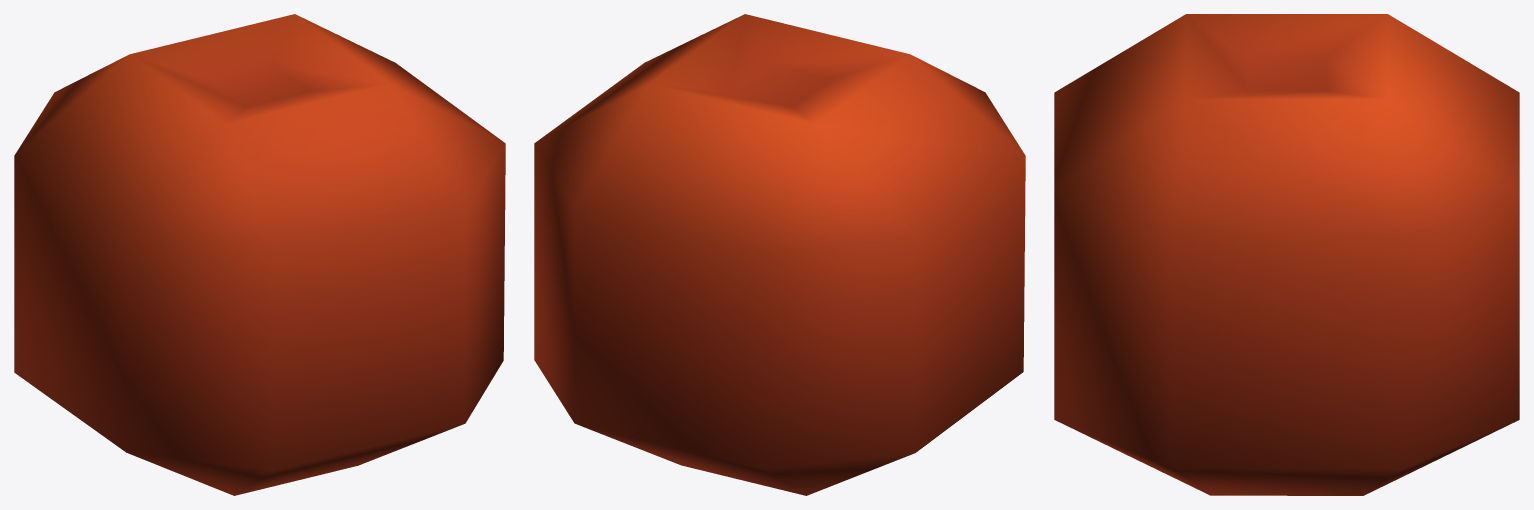
Rendered from tomato_cherry_no_leaf.fbx.
3 renders of one model, left to right at view 1: azimuth 30°, elevation 25°; view 2: azimuth 150°, elevation 25°; view 3: azimuth 270°, elevation 25°, orthographic. The views are drawn at different scales.
Visible parts, largest first — view 1: tomato_cherry_no_leaf; view 2: tomato_cherry_no_leaf; view 3: tomato_cherry_no_leaf.
Part boxes in pixels (box(x1,y1,x2,y2)): tomato_cherry_no_leaf: box(14, 14, 505, 495); tomato_cherry_no_leaf: box(534, 14, 1025, 495); tomato_cherry_no_leaf: box(1054, 14, 1519, 495).
Bounding box in the file's own units: 6.08 × 5.87 × 6.08.
